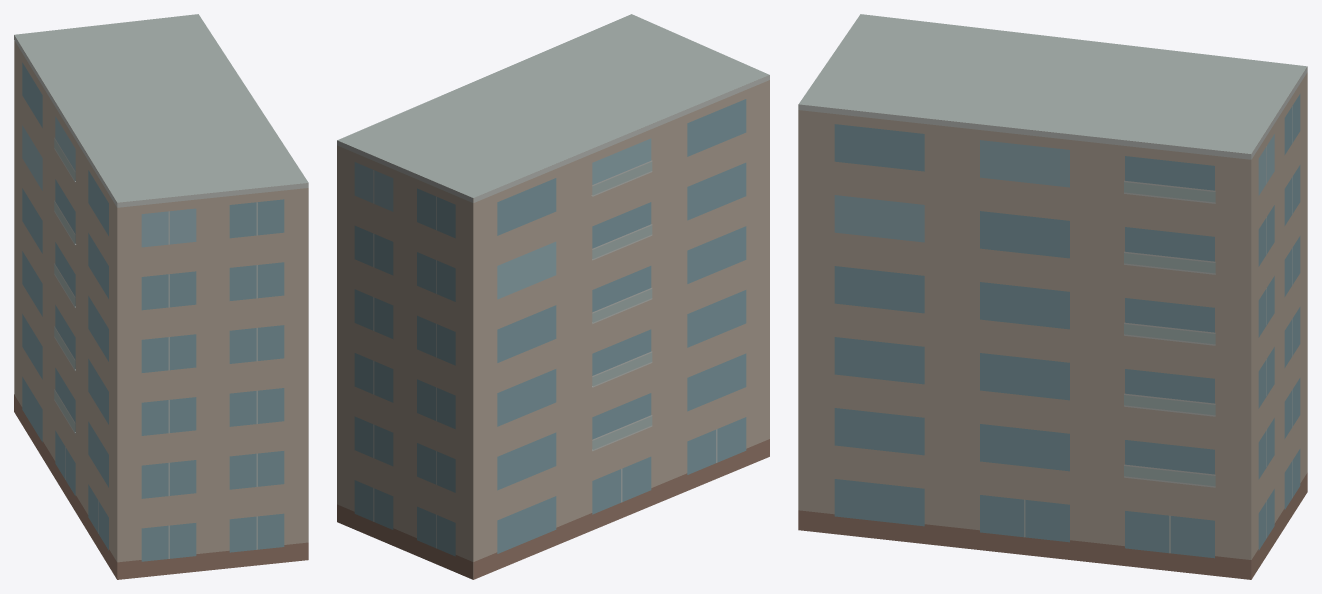
The model's file is survey-upis-32880049.glb.
3 views of the same model, side by side, from view 1: azimuth 30°, elevation 25°; view 2: azimuth 150°, elevation 25°; view 3: azimuth 270°, elevation 25° (orthographic). The views are drawn at different scales.
Parts seen in each view (by area): view 1: survey-upis-32880049.tmp; view 2: survey-upis-32880049.tmp; view 3: survey-upis-32880049.tmp.
Part boxes in pixels (left/top/right/bottom): survey-upis-32880049.tmp: left=14, top=14, right=308, bottom=579; survey-upis-32880049.tmp: left=337, top=14, right=769, bottom=579; survey-upis-32880049.tmp: left=798, top=14, right=1307, bottom=579.
Size of the model in its own units: 12.93 by 18.3 by 19.84.
